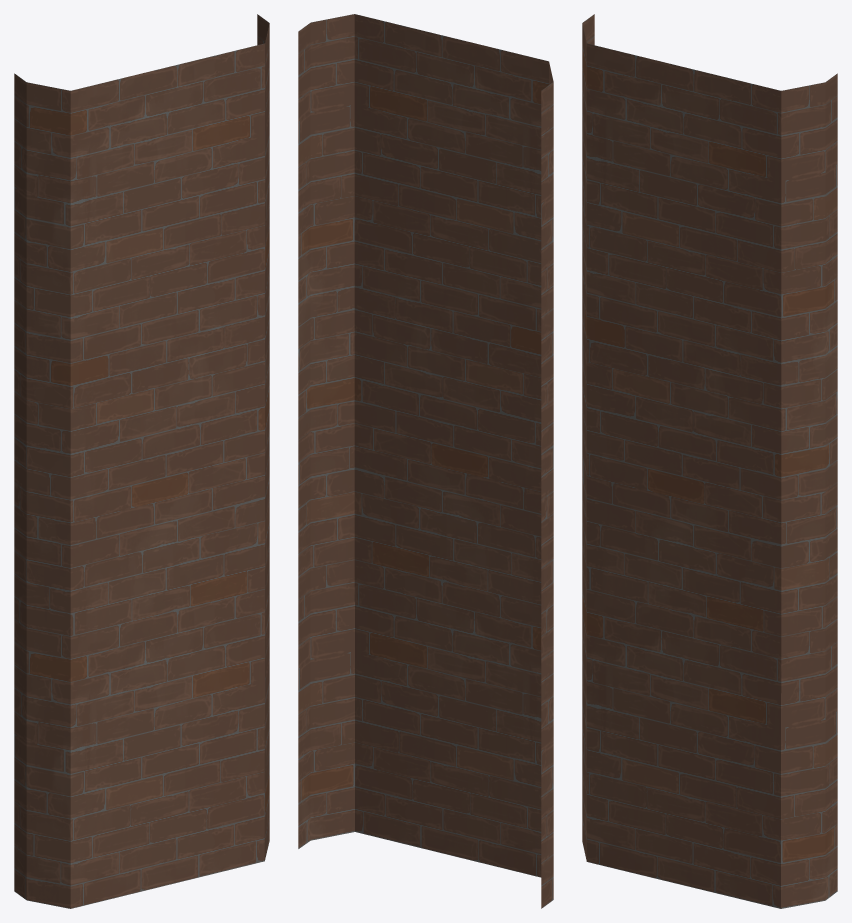
The model's file is Brick_HalfColumn_Center.gltf.
3 views of the same model, side by side, from view 1: azimuth 30°, elevation 25°; view 2: azimuth 150°, elevation 25°; view 3: azimuth 330°, elevation 25° (orthographic).
Visible parts, largest first — view 1: Brick_HalfColumn_Center; view 2: Brick_HalfColumn_Center; view 3: Brick_HalfColumn_Center.
Part boxes in pixels (<box>): Brick_HalfColumn_Center: <box>14,14,269,908</box>; Brick_HalfColumn_Center: <box>298,14,553,908</box>; Brick_HalfColumn_Center: <box>582,14,837,908</box>.
Bounding box in the file's own units: 0.9324 × 3 × 0.2132.
Materials: 1 (1 with a texture image).
